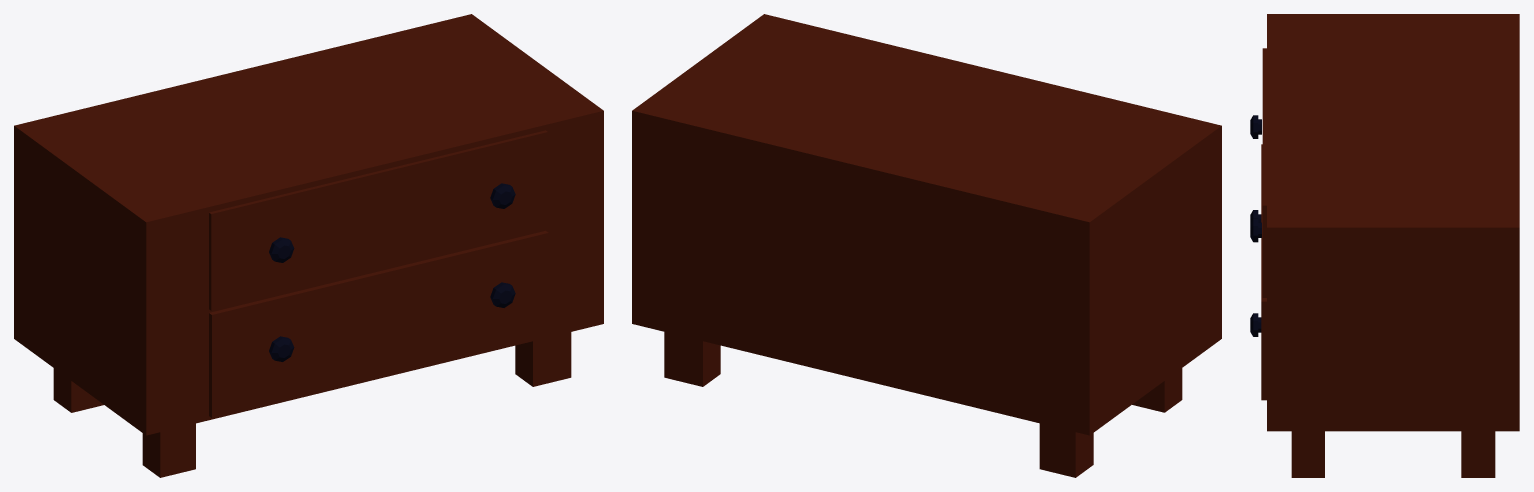
File: Drawer_Text.fbx
3 renders of one model, left to right at view 1: azimuth 30°, elevation 25°; view 2: azimuth 150°, elevation 25°; view 3: azimuth 270°, elevation 25°, orthographic. The views are drawn at different scales.
Parts seen in each view (by area): view 1: Commode1; view 2: Commode1; view 3: Commode1.
Part boxes in pixels (bbox=[...]): Commode1: bbox=[14, 14, 603, 477]; Commode1: bbox=[632, 14, 1221, 477]; Commode1: bbox=[1250, 14, 1519, 477].
Size of the model in its own units: 200 by 113 by 107.
1 material, 1 textured.
